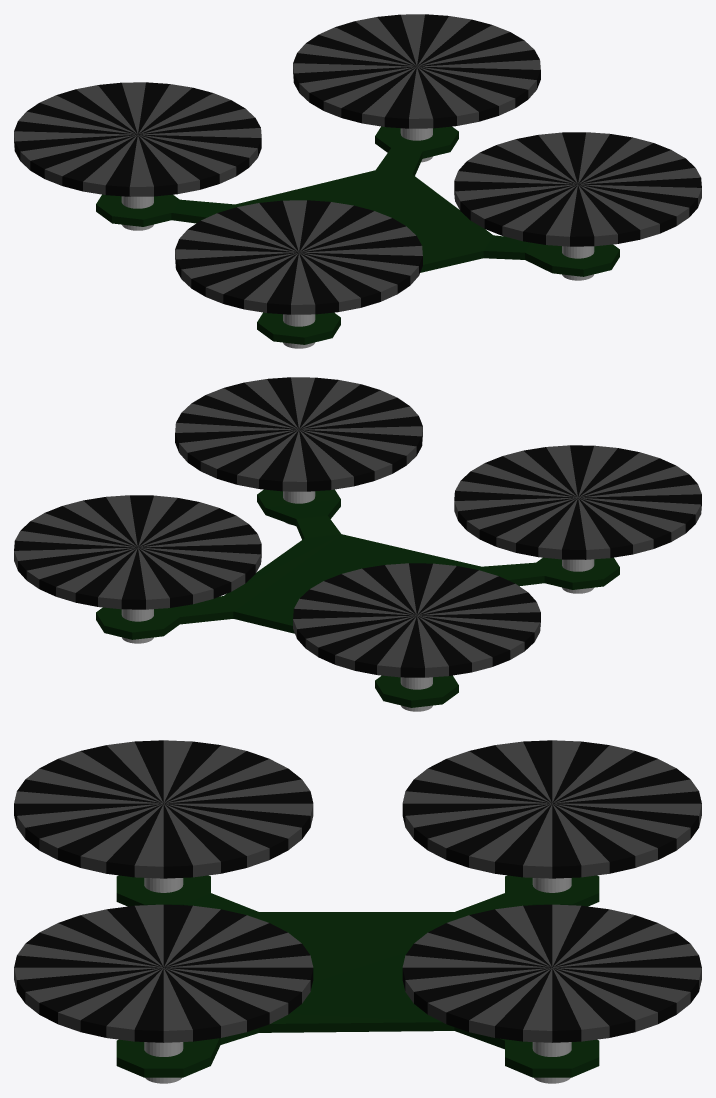
File: suzaku.obj
3 views of the same model, one above another, from view 1: azimuth 30°, elevation 25°; view 2: azimuth 150°, elevation 25°; view 3: azimuth 270°, elevation 25° (orthographic). The views are drawn at different scales.
Parts seen in each view (by area): view 1: Cube; view 2: Cube; view 3: Cube.
Boxes of the visible parts, x1,y1,x2,y2 form: Cube: (14, 14, 701, 348); Cube: (14, 377, 701, 711); Cube: (14, 740, 701, 1083).
Size of the model in its own units: 10.57 by 1.83 by 10.57.
